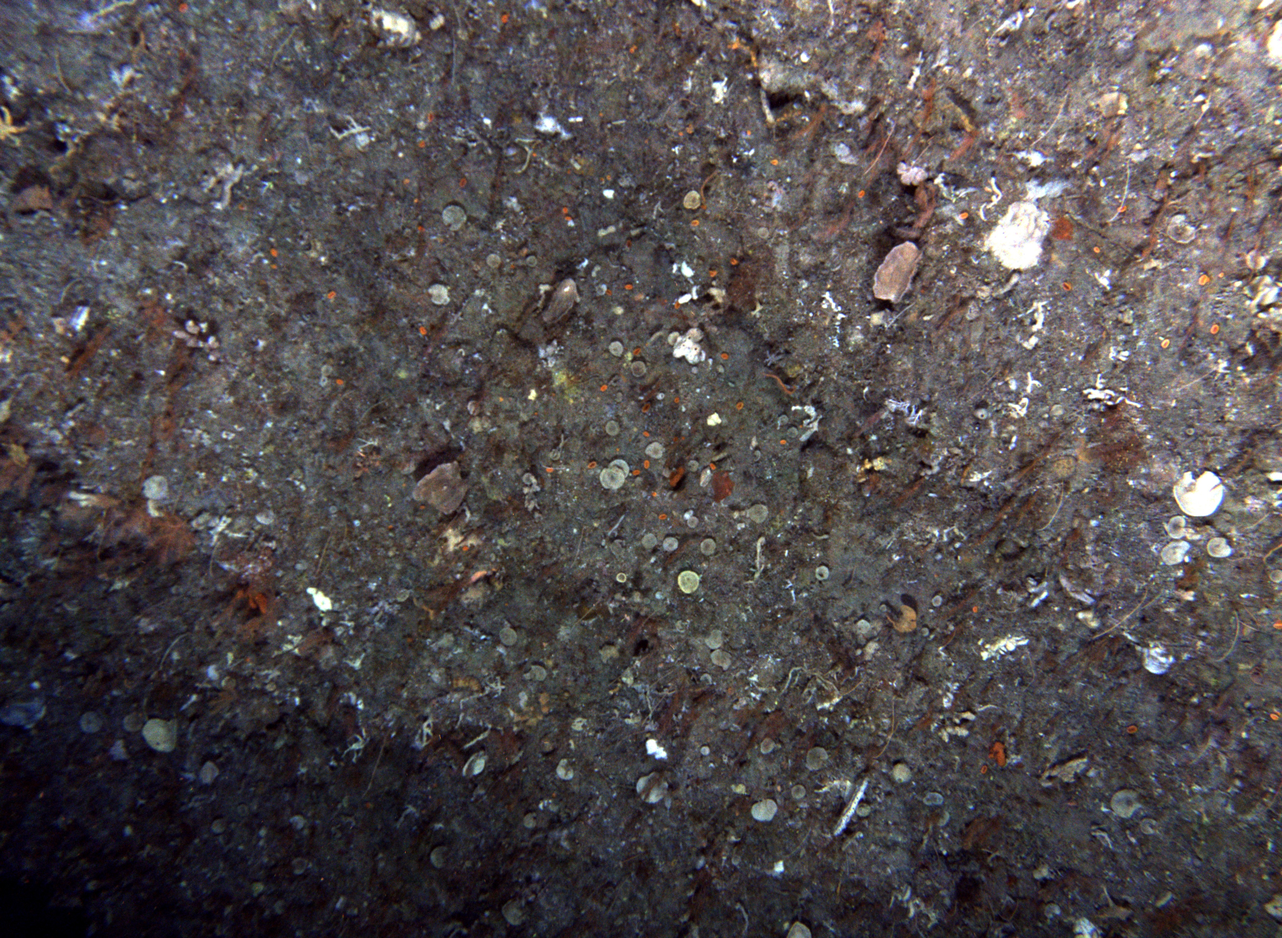Brachionichthyidae: (0, 180, 58, 233)
